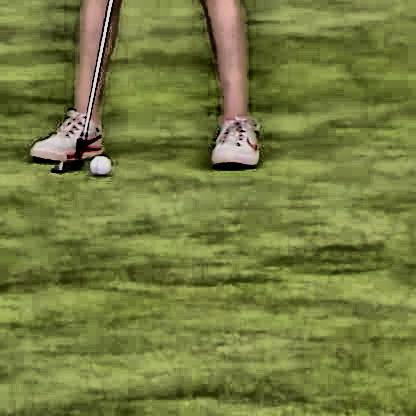golfball: (89, 153, 108, 172)
